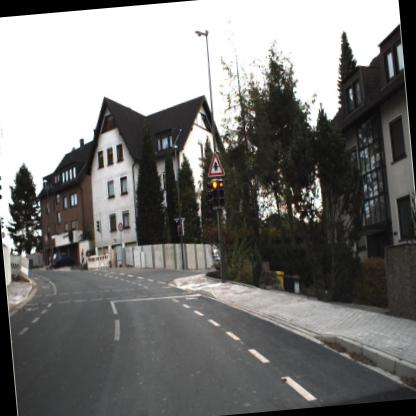danger: (205, 150, 227, 180)
prohibitory: (116, 219, 126, 234)
